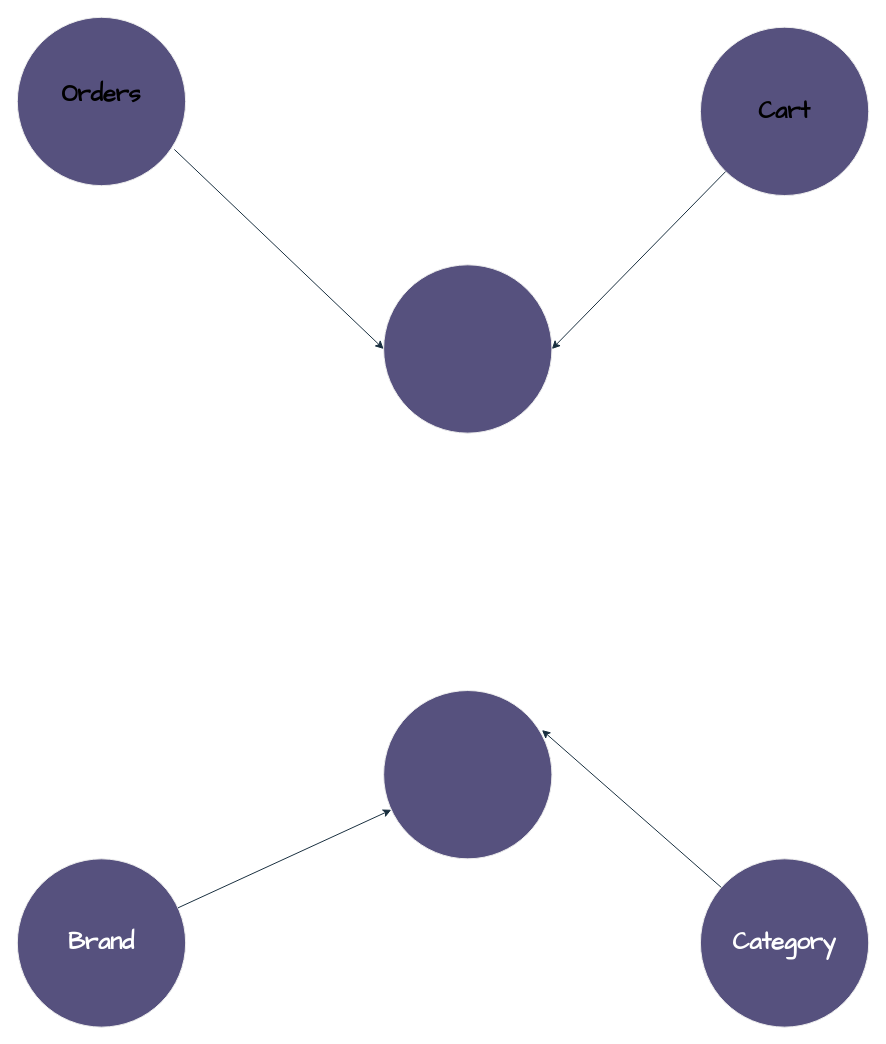
The diagram is 886 pixels wide and 1044 high, and some of its shapes have lost their labels. The shapes that lost their labels are listed below. From the top down, each one's box as (x1, y1, x2, y2) in pixels, then its label:
(383, 264, 552, 433): User
(383, 690, 552, 859): product
